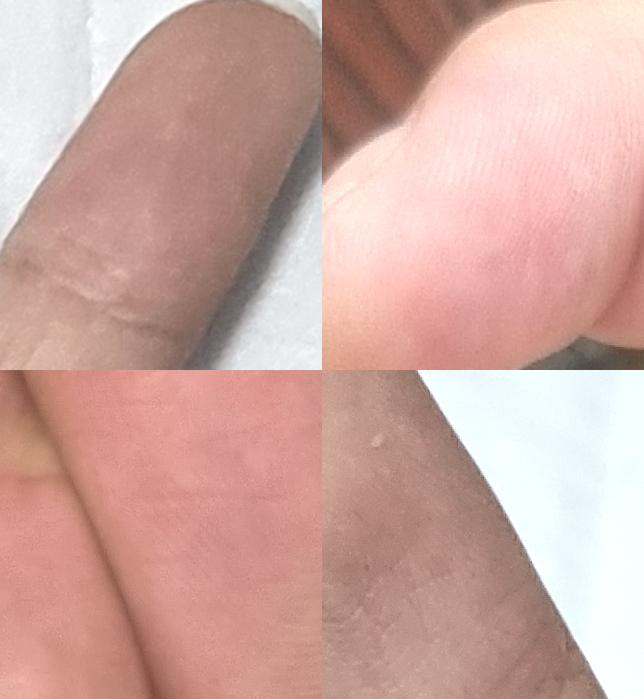Fingerprints: (322, 0, 644, 370), (0, 0, 322, 342), (27, 370, 322, 699), (322, 370, 560, 699)
